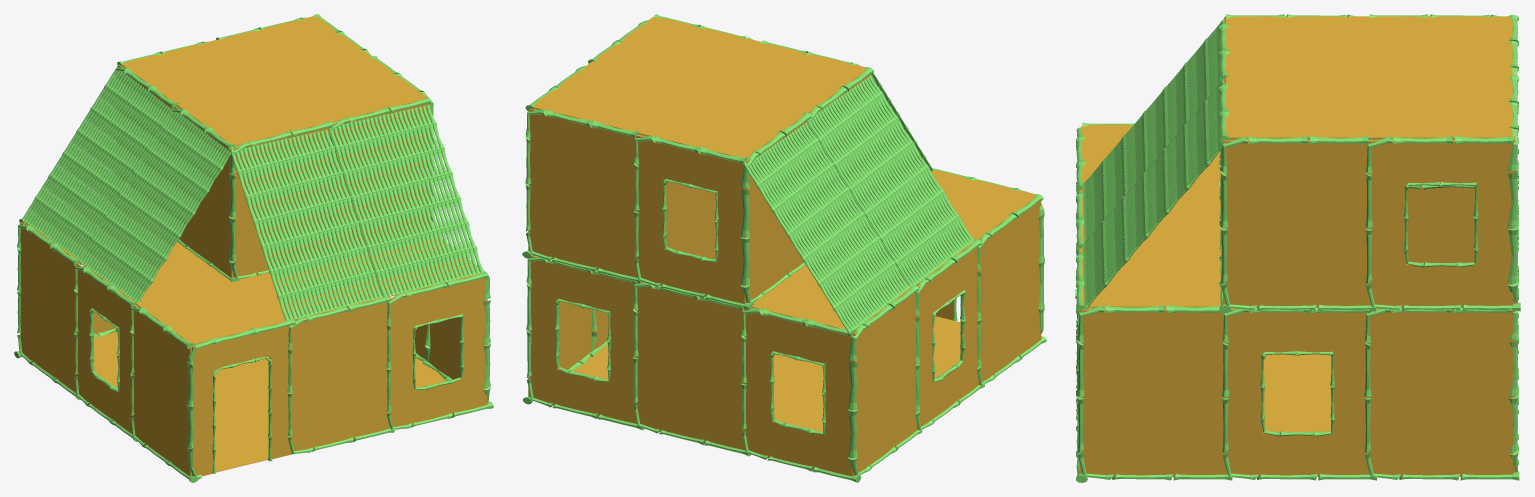
The model's file is House 2.fbx.
3 views of the same model, side by side, from view 1: azimuth 30°, elevation 25°; view 2: azimuth 150°, elevation 25°; view 3: azimuth 270°, elevation 25° (orthographic). The views are drawn at different scales.
Parts seen in each view (by area): view 1: Bamboo roof.005, Bamboo roof.003, Bamboo Wall.042, Bamboo roof.004, Bamboo roof.006, Bamboo Window.013, Bamboo Door.006, Bamboo Wall.016, Bamboo Wall.013, Bamboo Window.006, Bamboo Wall.017, Bamboo Floor.002 (+16 smaller); view 2: Bamboo Wall.008, Bamboo Wall.009, Bamboo roof.004, Bamboo roof.006, Bamboo Window.005, Bamboo Window.004, Bamboo Window.003, Bamboo Wall.013, Bamboo Wall.016, Bamboo Window.006, Bamboo Floor.015, Bamboo Floor.016 (+13 smaller); view 3: Bamboo Wall.002, Bamboo Wall.004, Bamboo Wall.005, Bamboo Window.002, Bamboo Window.001, Bamboo roof.005, Bamboo Floor.016, Bamboo Floor.017, Bamboo Floor.015, Bamboo Floor.002, Bamboo roof.003, Bamboo Floor.010 (+12 smaller).
Part boxes in pixels (bbox=[...]): Bamboo roof.005: bbox=[329, 104, 484, 296]; Bamboo roof.003: bbox=[229, 129, 383, 320]; Bamboo Wall.042: bbox=[287, 295, 394, 454]; Bamboo roof.004: bbox=[78, 105, 235, 302]; Bamboo roof.006: bbox=[22, 64, 172, 259]; Bamboo Window.013: bbox=[386, 271, 493, 429]; Bamboo Door.006: bbox=[186, 318, 295, 479]; Bamboo Wall.016: bbox=[130, 305, 198, 482]; Bamboo Wall.013: bbox=[17, 222, 81, 399]; Bamboo Window.006: bbox=[74, 263, 138, 441]; Bamboo Wall.017: bbox=[229, 121, 333, 278]; Bamboo Floor.002: bbox=[177, 81, 328, 146]; Bamboo Wall.008: bbox=[525, 109, 643, 283]; Bamboo Wall.009: bbox=[633, 282, 751, 456]; Bamboo roof.004: bbox=[807, 75, 974, 286]; Bamboo roof.006: bbox=[744, 122, 910, 333]; Bamboo Window.005: bbox=[741, 308, 861, 482]; Bamboo Window.004: bbox=[634, 135, 753, 310]; Bamboo Window.003: bbox=[526, 255, 644, 430]; Bamboo Wall.013: bbox=[848, 285, 922, 475]; Bamboo Wall.016: bbox=[977, 194, 1046, 385]; Bamboo Window.006: bbox=[915, 239, 984, 430]; Bamboo Floor.015: bbox=[638, 87, 803, 157]; Bamboo Floor.016: bbox=[533, 61, 699, 132]; Bamboo Wall.002: bbox=[1077, 305, 1232, 480]; Bamboo Wall.004: bbox=[1364, 308, 1519, 480]; Bamboo Wall.005: bbox=[1220, 135, 1375, 311]; Bamboo Window.002: bbox=[1365, 136, 1520, 311]; Bamboo Window.001: bbox=[1222, 307, 1376, 480]; Bamboo roof.005: bbox=[1082, 78, 1229, 308]; Bamboo Floor.016: bbox=[1369, 77, 1512, 138]; Bamboo Floor.017: bbox=[1225, 77, 1368, 138]; Bamboo Floor.015: bbox=[1369, 16, 1512, 76]; Bamboo Floor.002: bbox=[1225, 16, 1368, 76]; Bamboo roof.003: bbox=[1082, 16, 1225, 243]; Bamboo Floor.010: bbox=[1082, 246, 1220, 307].
Size of the model in its own units: 311 by 264 by 310.
